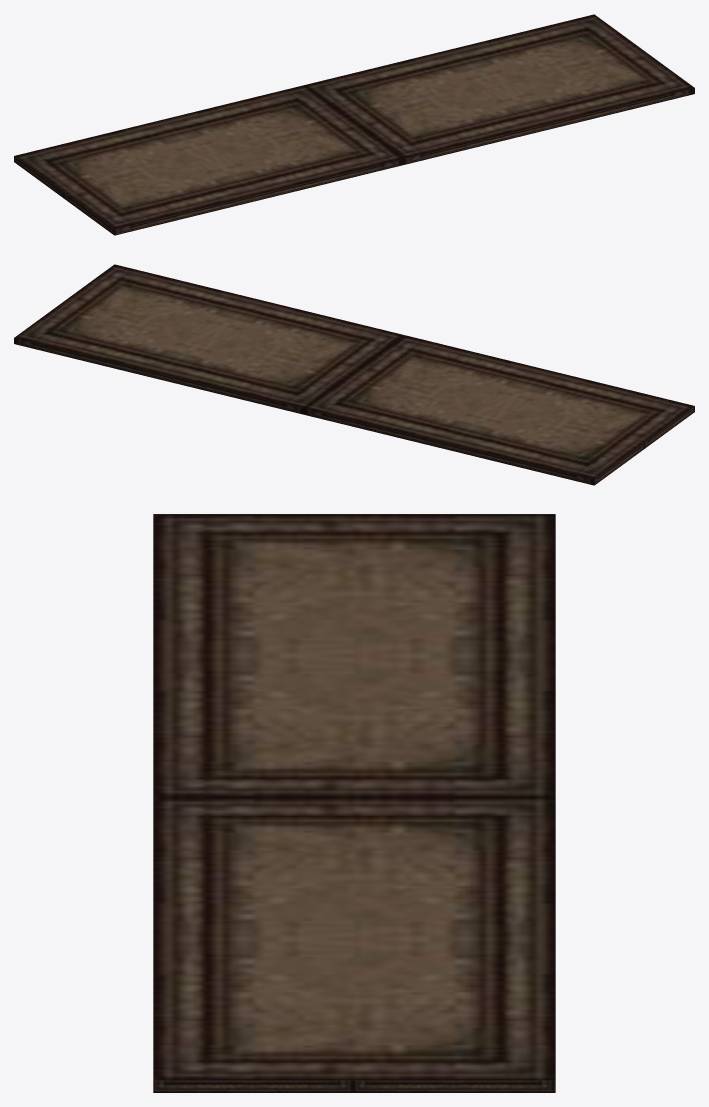
File: roof_interior.fbx
3 renders of one model, top to bottom at view 1: azimuth 30°, elevation 25°; view 2: azimuth 150°, elevation 25°; view 3: azimuth 270°, elevation 25°, orthographic. The views are drawn at different scales.
Parts seen in each view (by area): view 1: Cube; view 2: Cube; view 3: Cube.
Part boxes in pixels (<box>): Cube: <box>14,14,694,235</box>; Cube: <box>14,264,694,485</box>; Cube: <box>153,514,555,1092</box>.
Size of the model in its own units: 4000 by 87.72 by 1200.
Materials: 1 (1 with a texture image).
